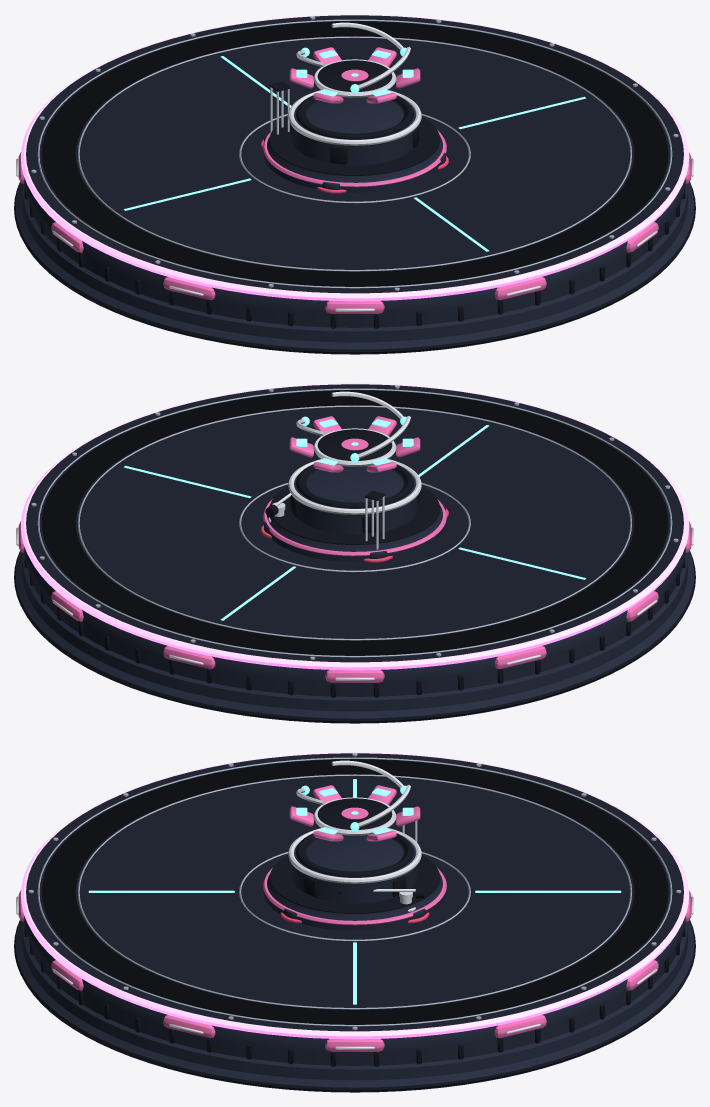
File: deck.glb
3 renders of one model, top to bottom at view 1: azimuth 30°, elevation 25°; view 2: azimuth 150°, elevation 25°; view 3: azimuth 270°, elevation 25°, orthographic.
Parts seen in each view (by area): view 1: Base_Static, Hub_Static, Base_Rim, Hub_Crown, Hub_Cone, Base_Spokes, Hub_Orbit, Slot_Static; view 2: Base_Static, Hub_Static, Base_Rim, Hub_Crown, Hub_Cone, Base_Spokes, Slot_Static, Hub_Orbit; view 3: Base_Static, Hub_Static, Base_Rim, Hub_Crown, Hub_Cone, Base_Spokes, Hub_Orbit, Slot_Static.
Boxes of the visible parts, left/top/right/bottom form: Base_Static: left=14, top=15, right=695, bottom=354; Hub_Static: left=263, top=90, right=446, bottom=192; Base_Rim: left=20, top=14, right=689, bottom=301; Hub_Crown: left=289, top=47, right=420, bottom=103; Hub_Cone: left=296, top=95, right=413, bottom=139; Base_Spokes: left=124, top=56, right=585, bottom=251; Hub_Orbit: left=296, top=22, right=410, bottom=93; Slot_Static: left=261, top=81, right=448, bottom=193; Base_Static: left=14, top=384, right=695, bottom=723; Hub_Static: left=263, top=459, right=446, bottom=561; Base_Rim: left=20, top=383, right=689, bottom=670; Hub_Crown: left=289, top=416, right=420, bottom=472; Hub_Cone: left=296, top=464, right=413, bottom=508; Base_Spokes: left=124, top=425, right=585, bottom=620; Slot_Static: left=261, top=490, right=448, bottom=562; Hub_Orbit: left=296, top=391, right=410, bottom=462; Base_Static: left=14, top=753, right=695, bottom=1092; Hub_Static: left=263, top=828, right=446, bottom=930; Base_Rim: left=20, top=752, right=689, bottom=1039; Hub_Crown: left=289, top=785, right=420, bottom=841; Hub_Cone: left=296, top=833, right=413, bottom=877; Base_Spokes: left=88, top=779, right=621, bottom=1004; Hub_Orbit: left=296, top=760, right=410, bottom=831; Slot_Static: left=280, top=806, right=429, bottom=923.
Size of the model in its own units: 13.06 by 3.52 by 13.06.
